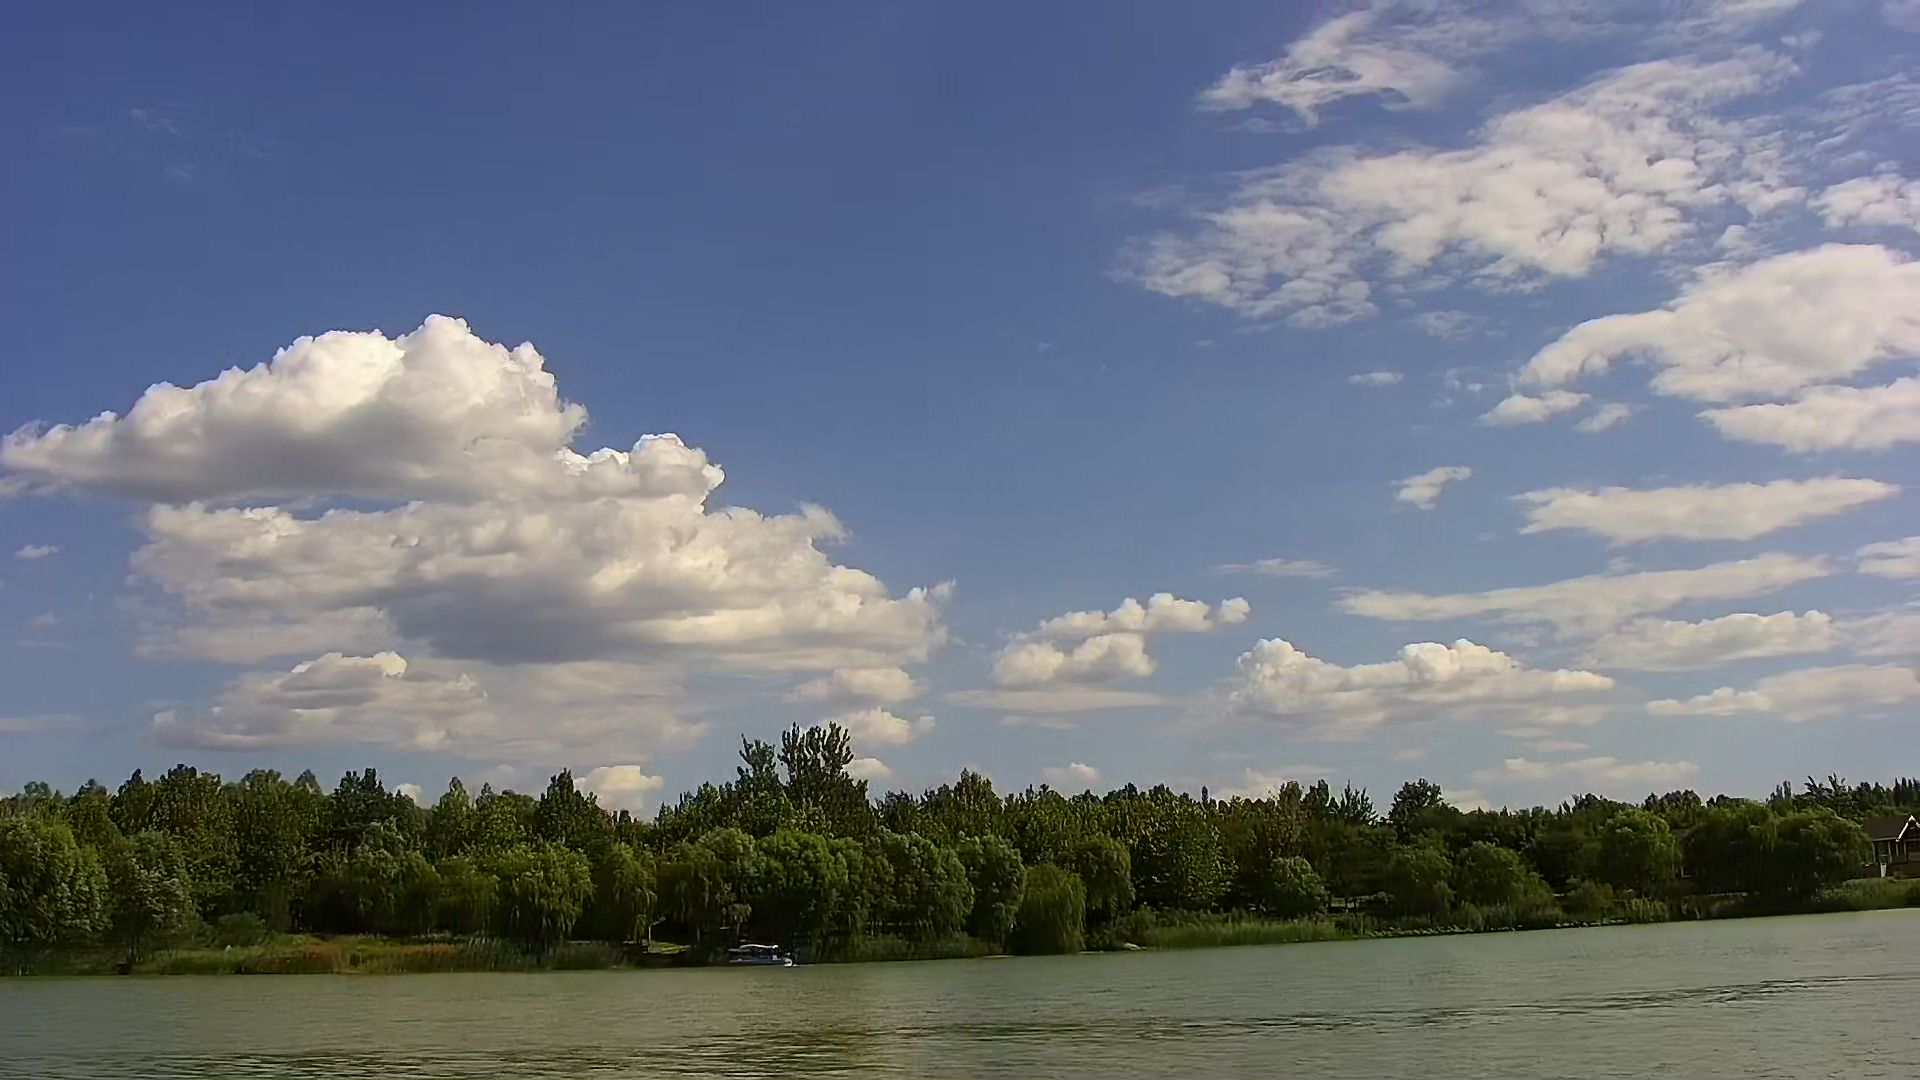boat: (717, 942, 796, 972)
